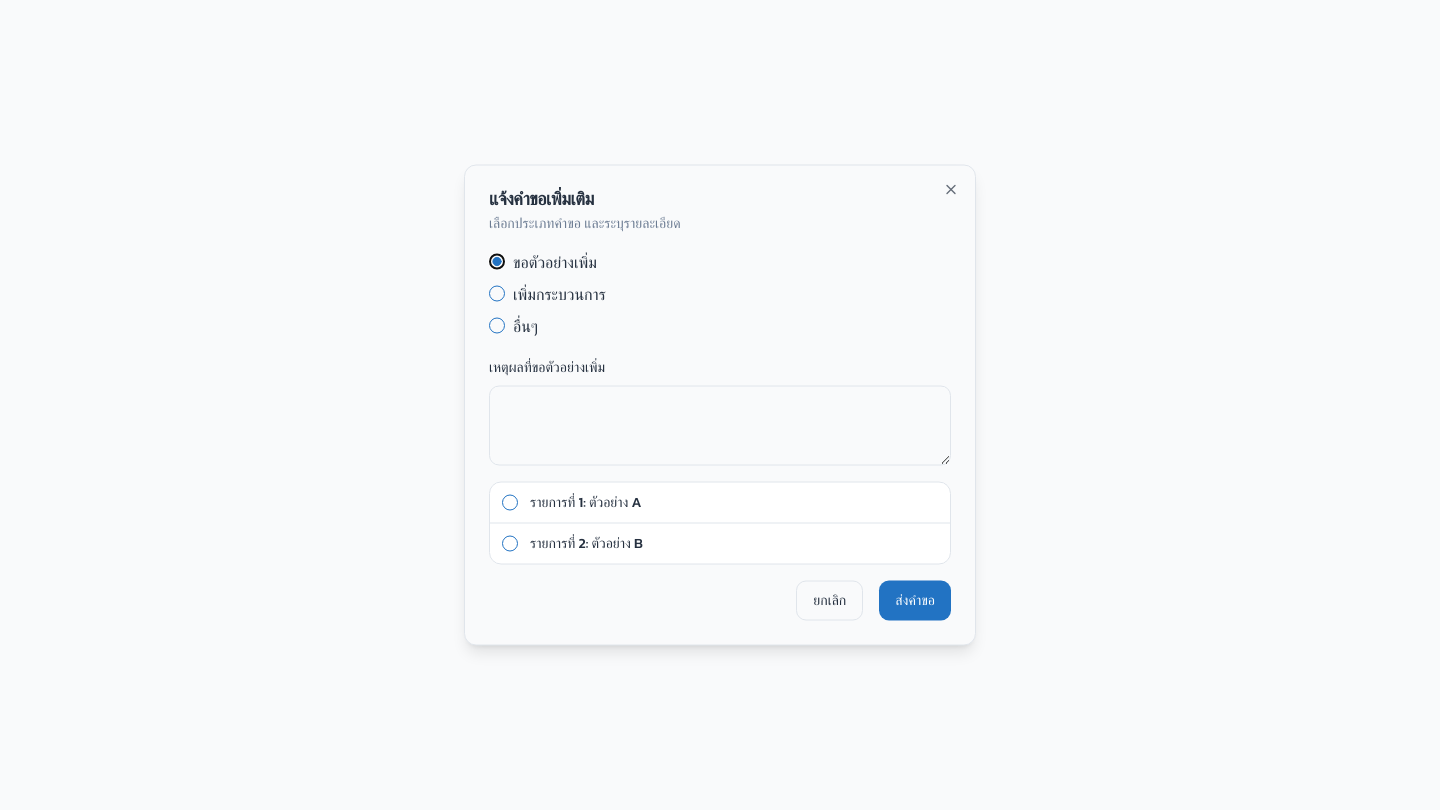
Test: AdditionalSampleRequestDialog › rejects an invalid weight -1 before posting
Step 1. Type " ค่าสูงกว่าเกณฑ์ " into the text box labelled "เหตุผลที่ขอตัวอย่างเพิ่ม" → (720, 426), box left=489, top=386, right=951, bottom=466
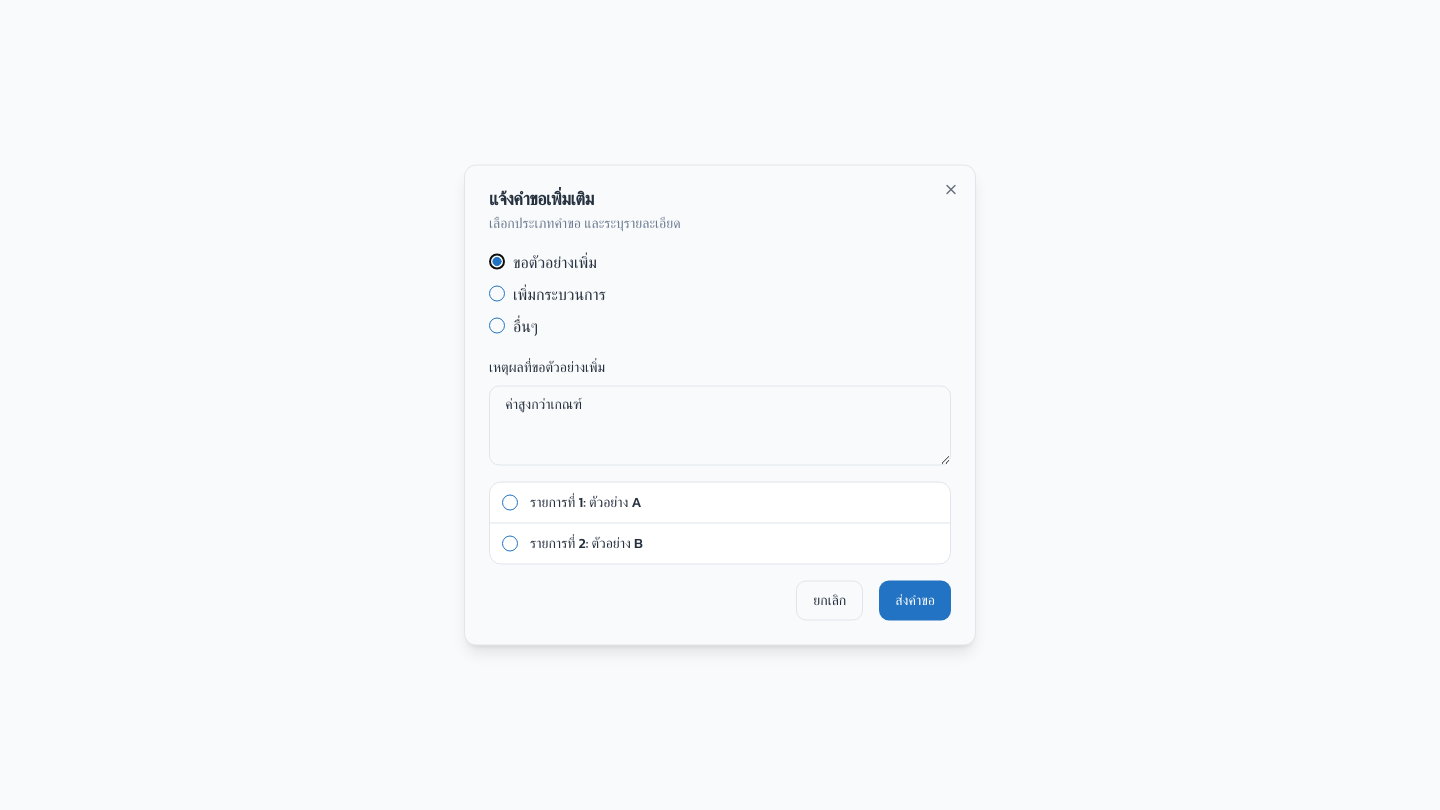
Step 2. Click the checkbox named "ตัวอย่าง A" in the row of "ตัวอย่าง A" → click(510, 502), box left=502, top=494, right=518, bottom=510
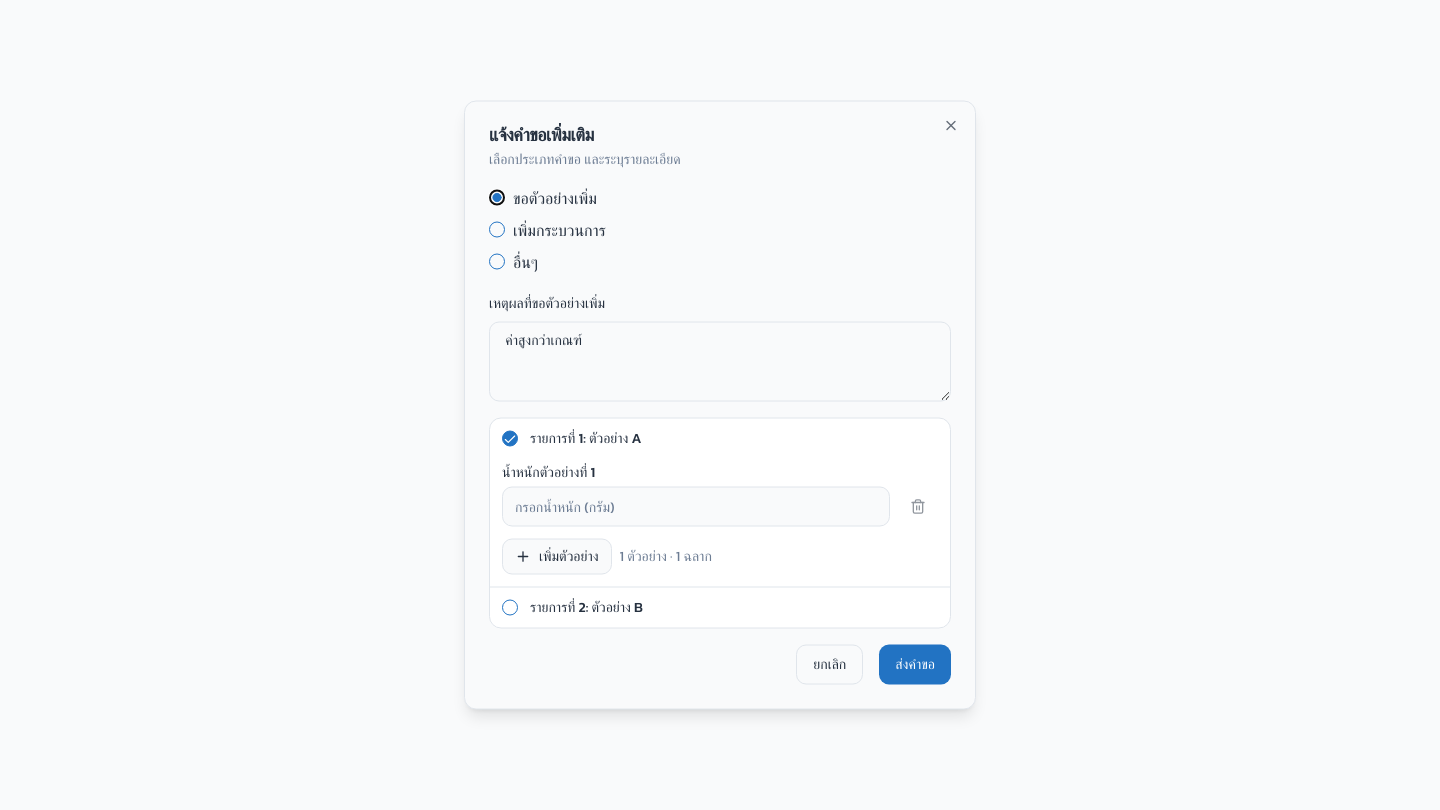
Step 3. Type "100" into the number field named "น้ำหนักตัวอย่างที่ 1 รายการที่ 1" → (696, 506), box left=502, top=486, right=890, bottom=526
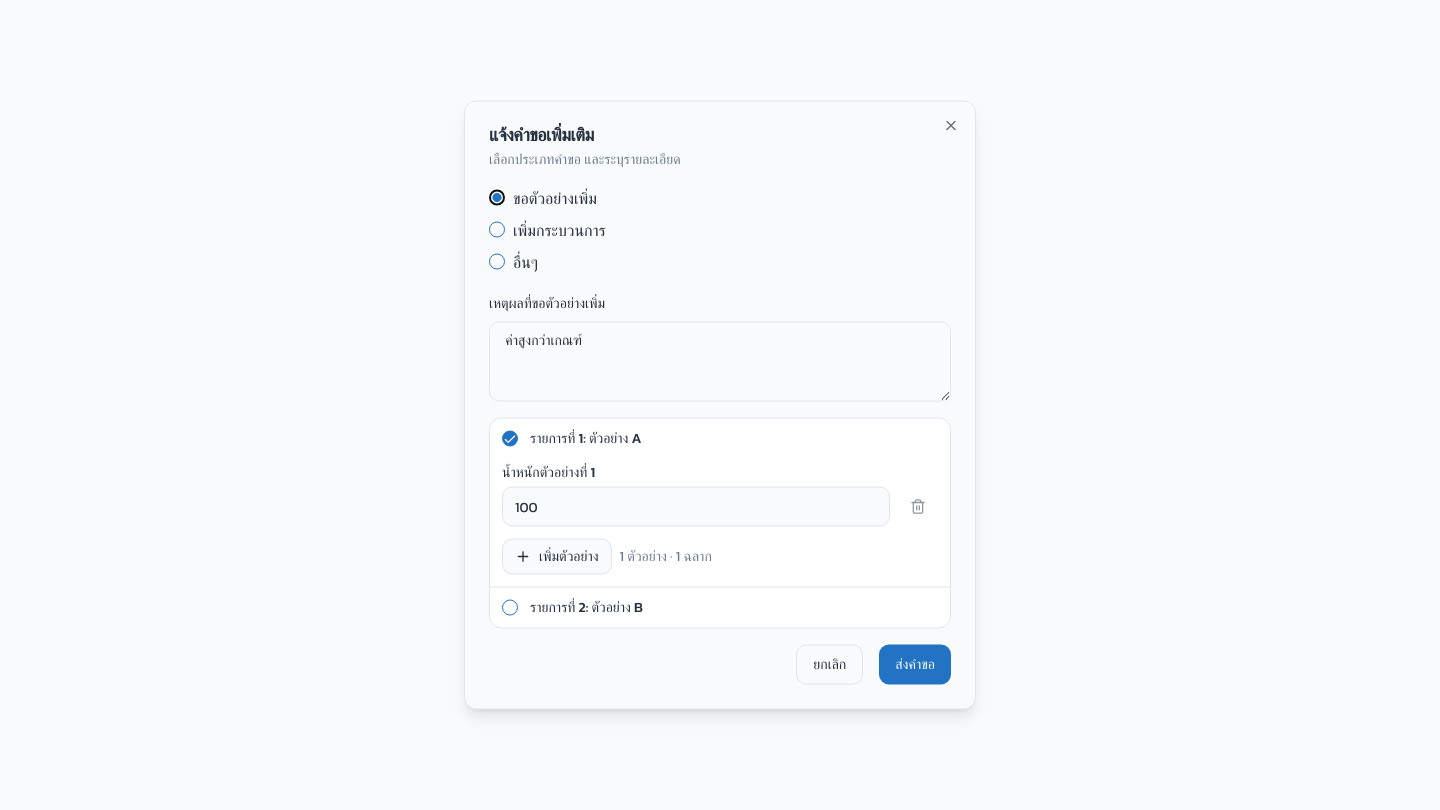
Step 4. Replace the text in the number field named "น้ำหนักตัวอย่างที่ 1 รายการที่ 1" with "-1" → (696, 506), box left=502, top=486, right=890, bottom=526
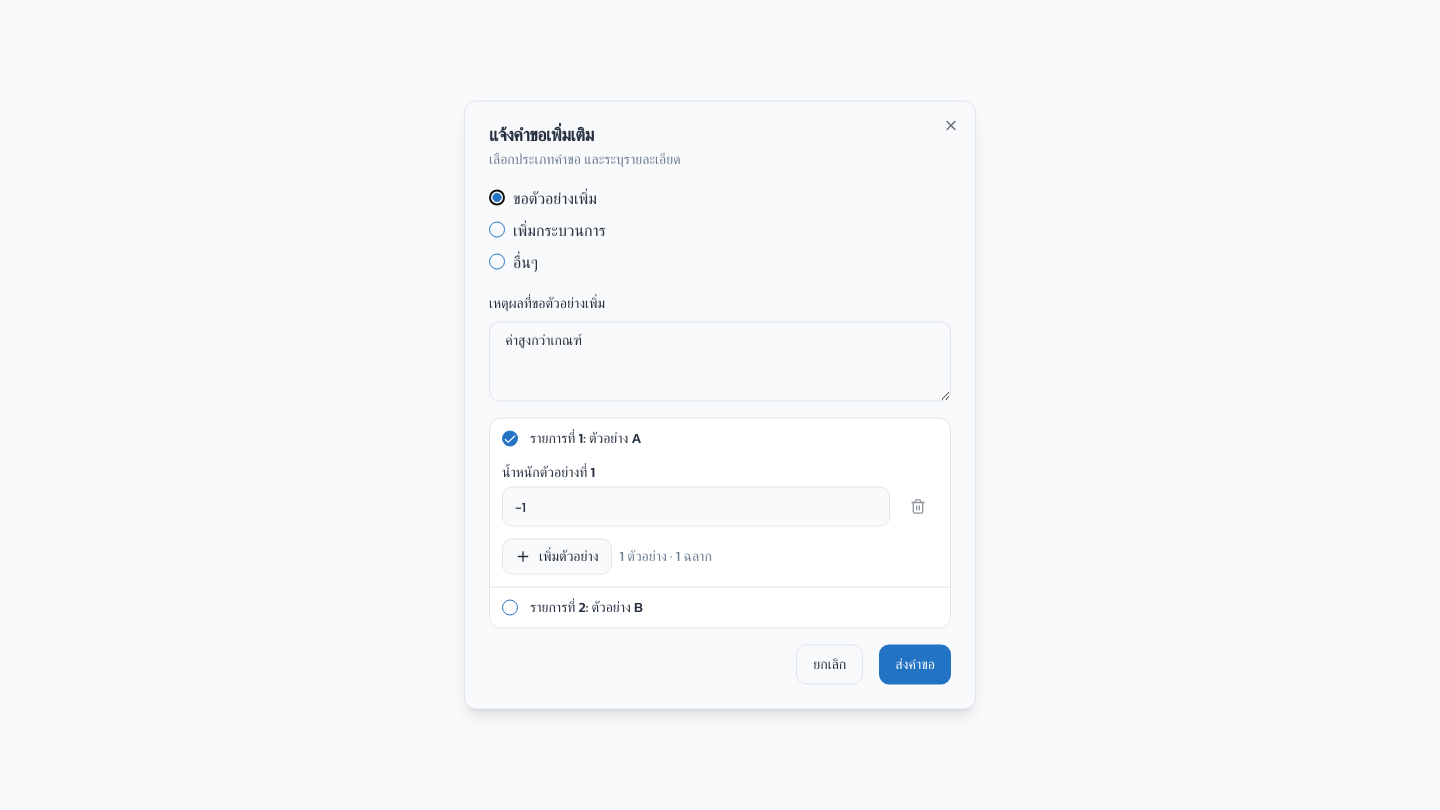
Step 5. Click the button "ส่งคำขอ" → click(915, 664), box left=879, top=644, right=951, bottom=684
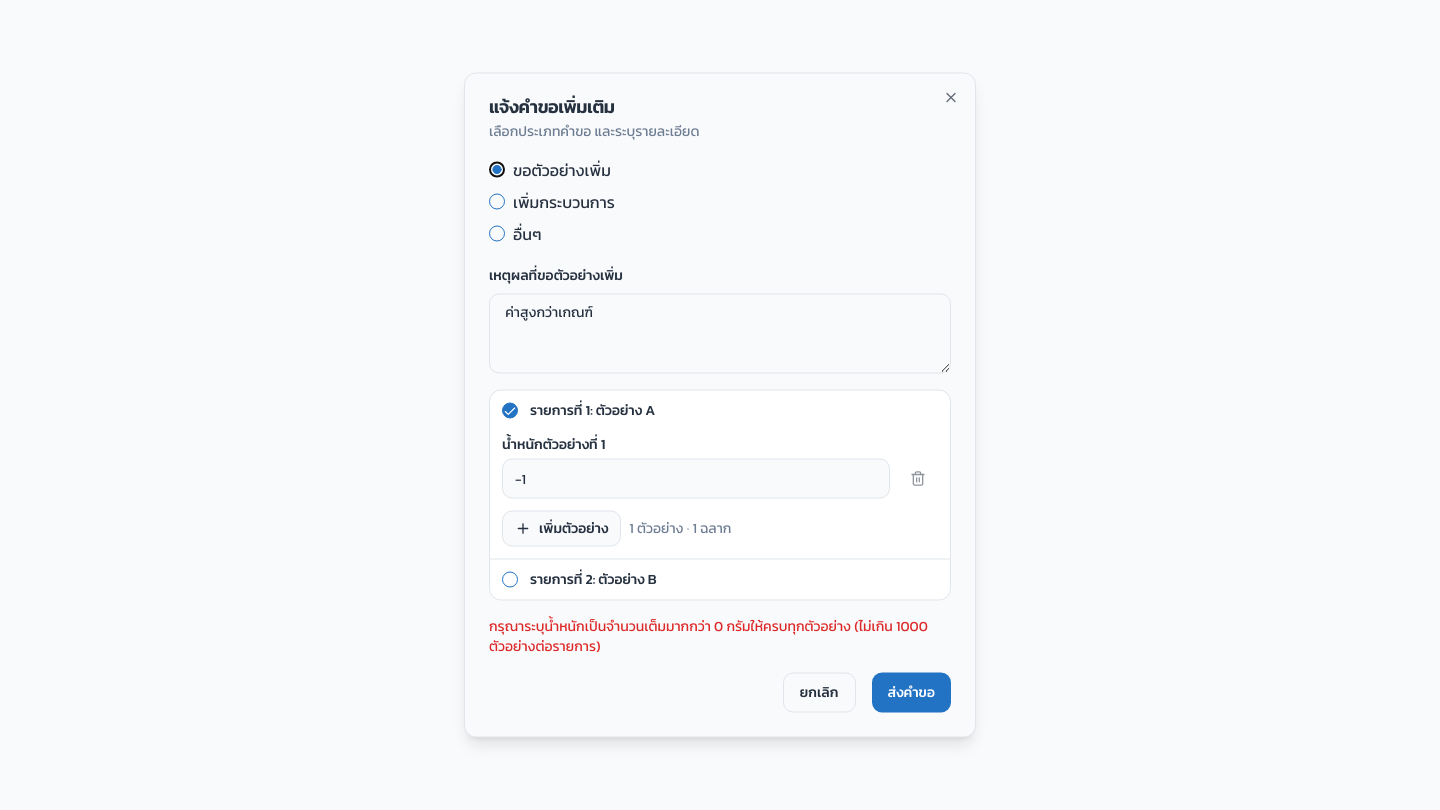
Now the message shows "ระบุน้ำหนัก", box left=489, top=616, right=928, bottom=656
